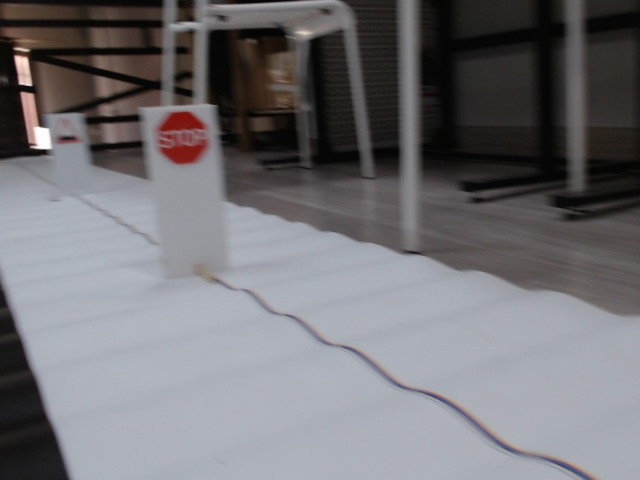Nerov: (53, 119, 83, 147)
Stop: (154, 111, 210, 163)
